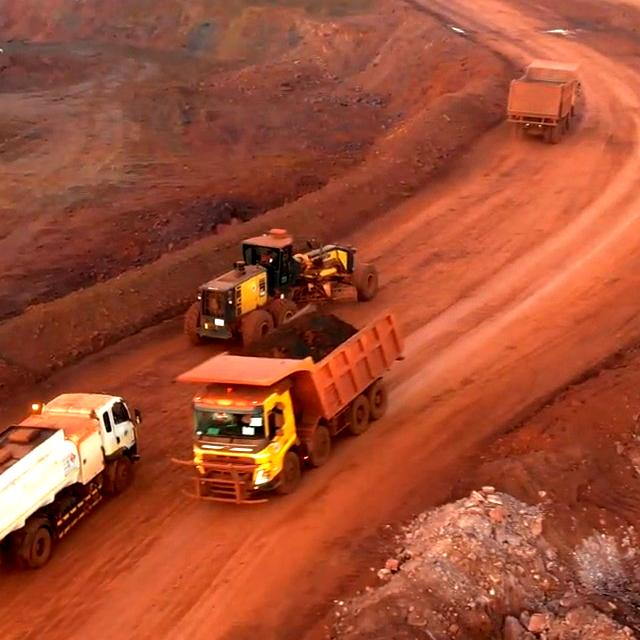Dumper truck: (194, 373, 297, 498), (512, 65, 578, 137)
